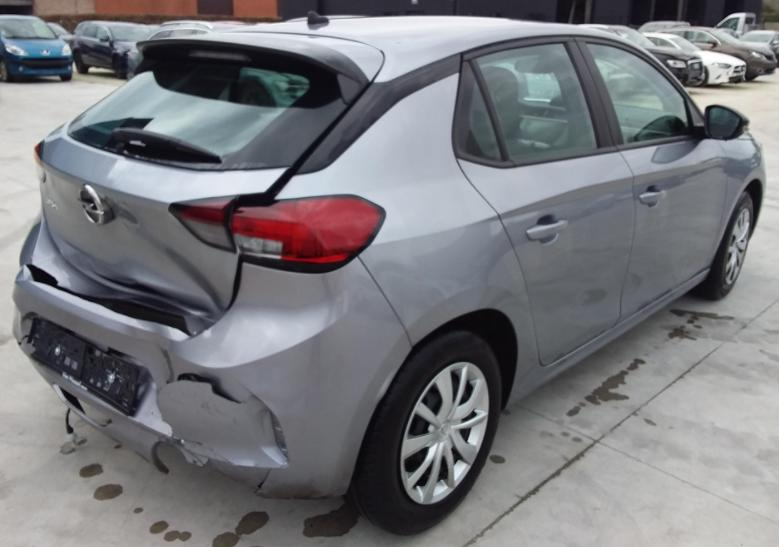Back-bumper: (12, 257, 411, 500)
Back-door: (453, 36, 635, 366)
Back-wheel: (341, 324, 502, 535)
Back-window: (476, 44, 597, 161), (467, 84, 502, 161)
Back-windshield: (68, 56, 346, 169)
Fender: (708, 131, 767, 267)
Front-door: (571, 36, 727, 324)
Front-wheel: (686, 190, 753, 300)
Front-window: (586, 44, 687, 144)
Mirror: (686, 97, 750, 140)
Quarter-panel: (274, 153, 541, 382)
Rocker-panel: (505, 267, 710, 409)
Roof: (205, 11, 629, 82)
Tail-light: (168, 194, 387, 273), (33, 139, 46, 183)
Trunk: (19, 32, 384, 336)
